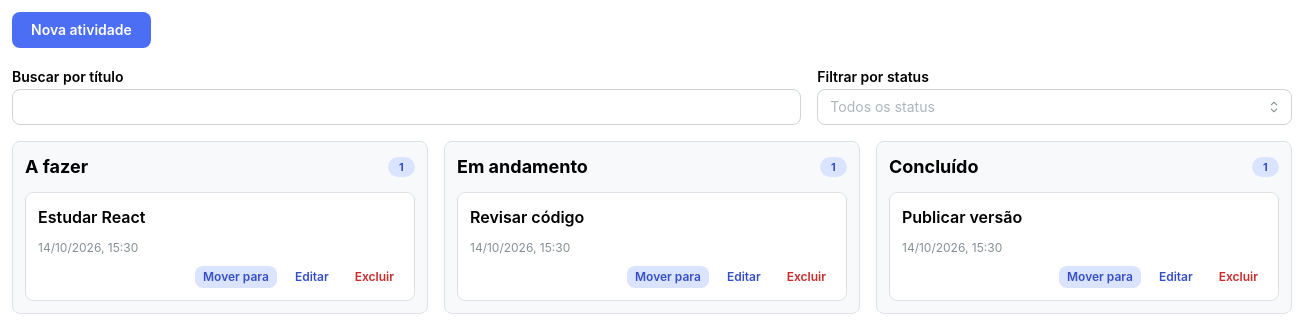
Test: KanbanBoard › busca e filtro › filtra por status enviando o parâmetro à API
Expected: the text "Estudar React" is shown, [38,207,146,227]
Click the dropdown with placeholder "Todos os status" at coordinates (1055, 107), box [817,89,1292,125]
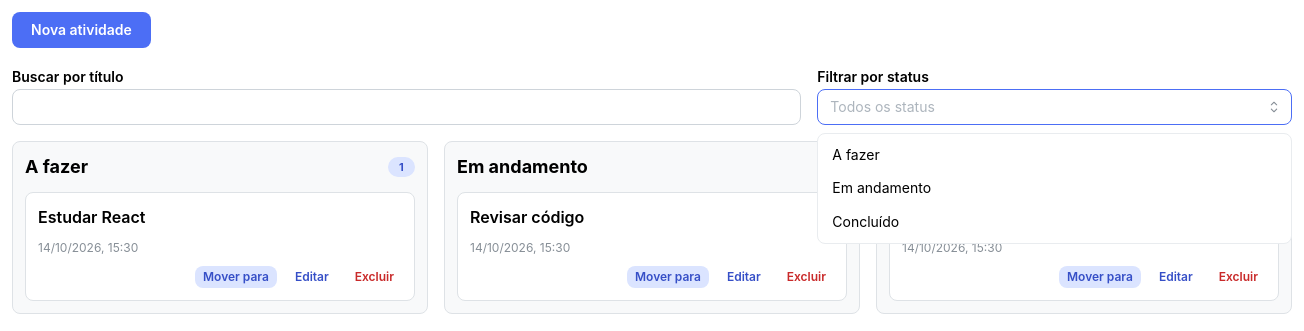
Click the option "Em andamento" at coordinates (882, 188), box [832,180,931,196]
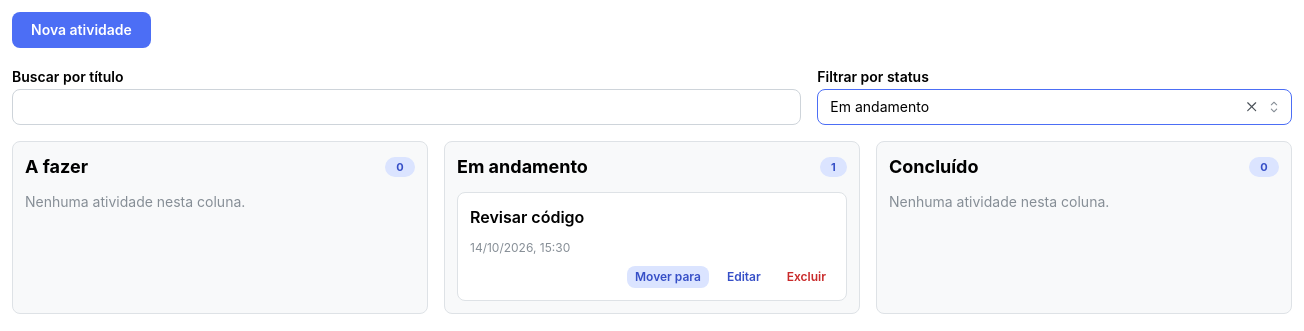
Expected: the text "Revisar código" is shown, [470,207,584,227]
Now the text "Estudar React" is gone
